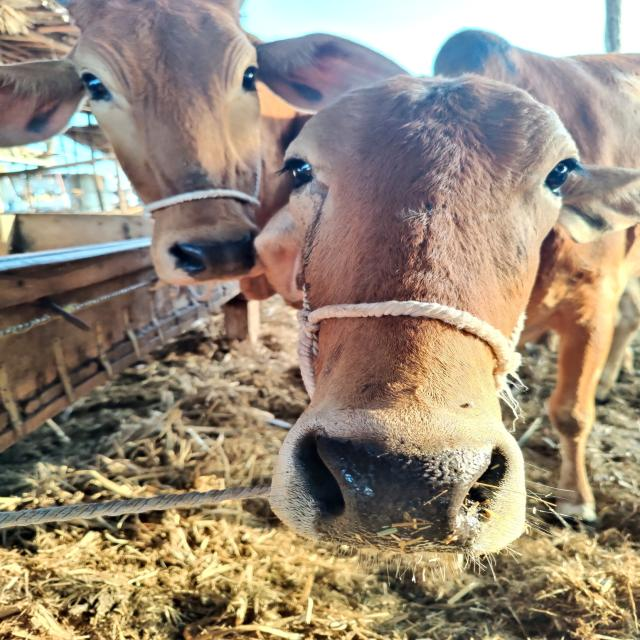muzzles: (286, 417, 520, 549), (162, 234, 269, 286)
